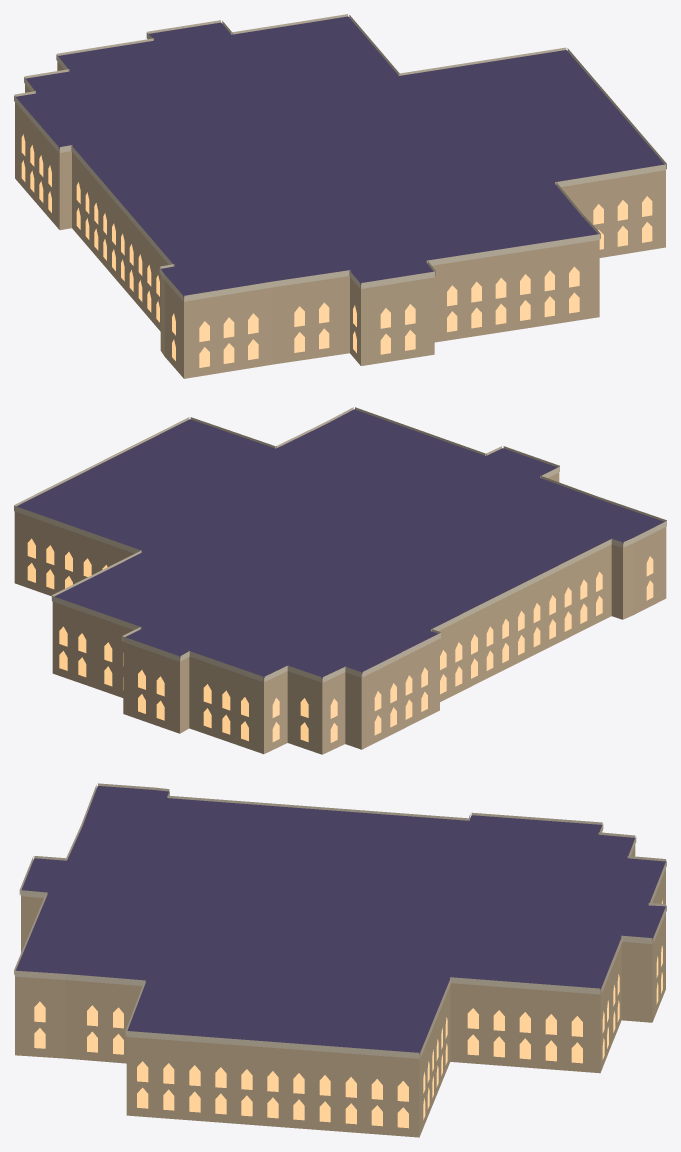
File: core-thames-hall.glb
The picture shows the model from 3 angles, top to bottom: view 1: azimuth 30°, elevation 25°; view 2: azimuth 150°, elevation 25°; view 3: azimuth 270°, elevation 25°; orthographic projection. The views are drawn at different scales.
Parts seen in each view (by area): view 1: campus/core-thames-hall-0; view 2: campus/core-thames-hall-0; view 3: campus/core-thames-hall-0.
Boxes of the visible parts, x1,y1,x2,y2 form: campus/core-thames-hall-0: (14, 14, 666, 378); campus/core-thames-hall-0: (14, 407, 666, 754); campus/core-thames-hall-0: (14, 783, 666, 1137).
Bounding box in the file's own units: 72.29 × 10.65 × 74.03.
